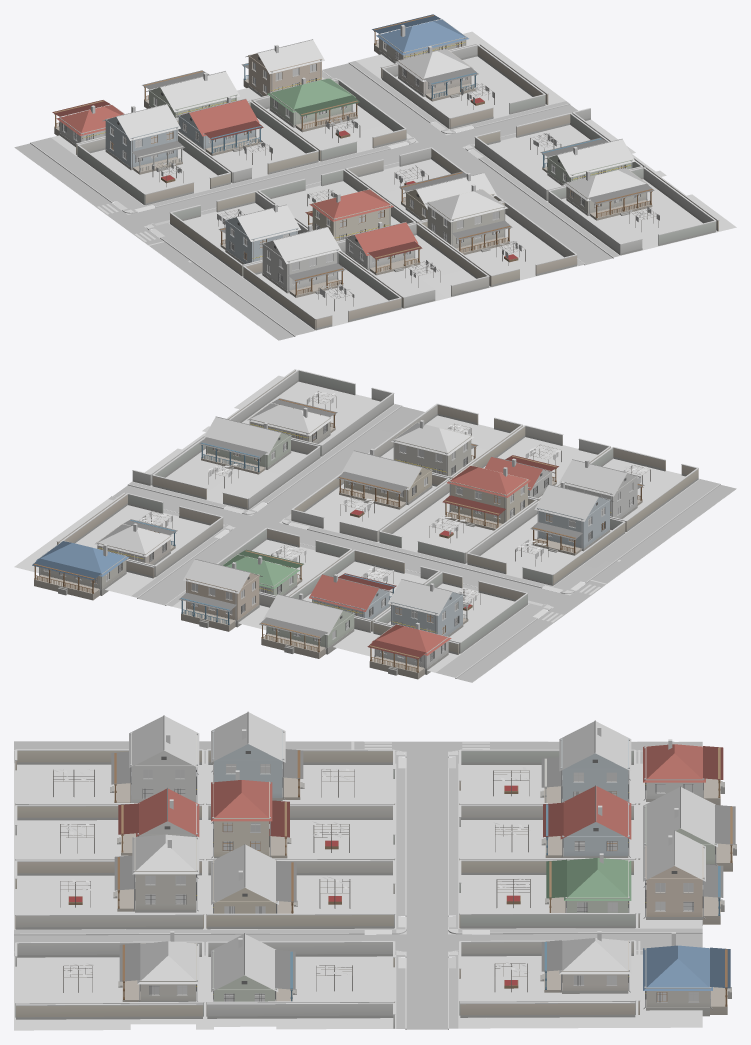
The model's file is chunk_1_5.glb.
The picture shows the model from 3 angles, top to bottom: view 1: azimuth 30°, elevation 25°; view 2: azimuth 150°, elevation 25°; view 3: azimuth 270°, elevation 25°; orthographic projection. The views are drawn at different scales.
Visible parts, largest first — view 1: base, detail; view 2: base, detail; view 3: base, detail.
Part boxes in pixels (box(x1,y1,x2,y2)): base: box(14, 14, 736, 340); detail: box(54, 15, 658, 311); base: box(14, 369, 736, 682); detail: box(34, 392, 650, 672); base: box(14, 712, 736, 1030); detail: box(53, 711, 732, 1008).
Size of what is drawn, in the model's own units: 100 by 11.21 by 105.
